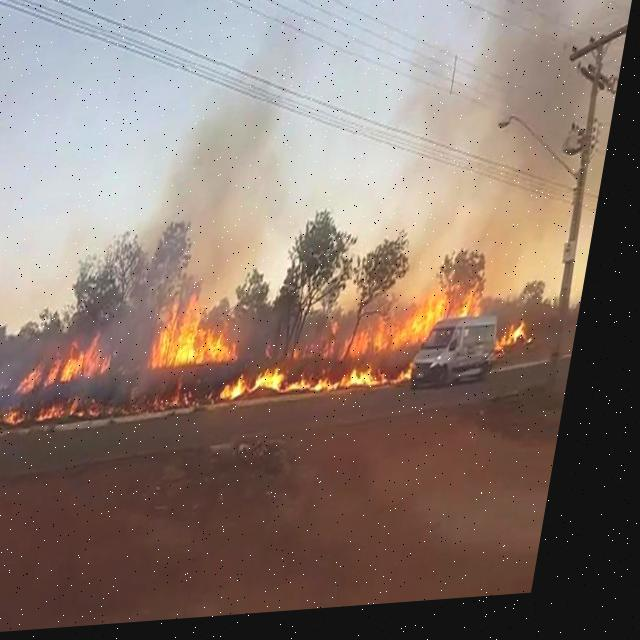Fire: (0, 370, 428, 430), (319, 291, 495, 358), (156, 296, 259, 373), (33, 321, 130, 387), (510, 331, 544, 366)
